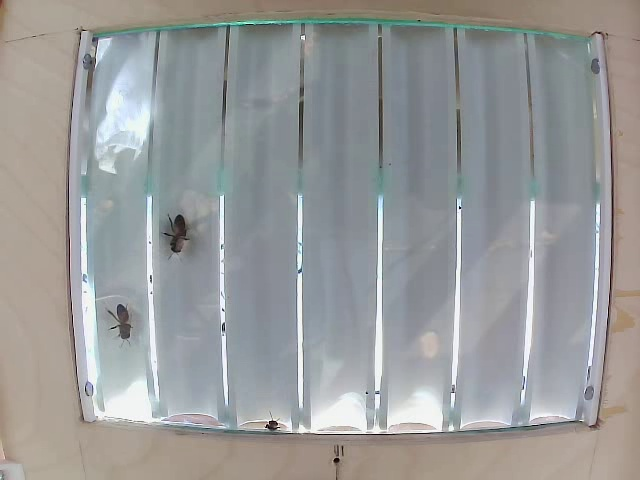bee: (159, 203, 192, 266), (103, 295, 133, 351)
